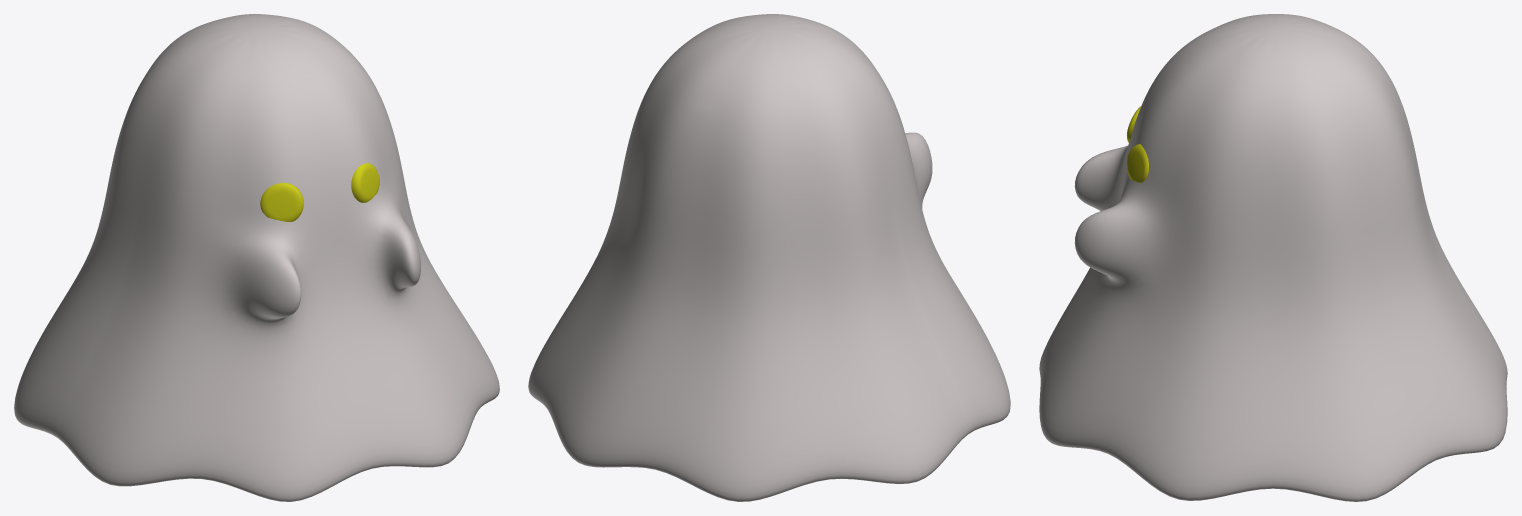
The model's file is ghost.obj.
The picture shows the model from 3 angles, left to right: view 1: azimuth 30°, elevation 25°; view 2: azimuth 150°, elevation 25°; view 3: azimuth 270°, elevation 25°; orthographic projection.
Visible parts, largest first — view 1: ghost; view 2: ghost; view 3: ghost.
Boxes of the visible parts, left/top/right/bottom form: ghost: left=14, top=14, right=499, bottom=501; ghost: left=528, top=14, right=1010, bottom=501; ghost: left=1039, top=14, right=1507, bottom=501.
Size of the model in its own units: 1.93 by 1.71 by 1.92.
Materials: 1 (1 with a texture image).
